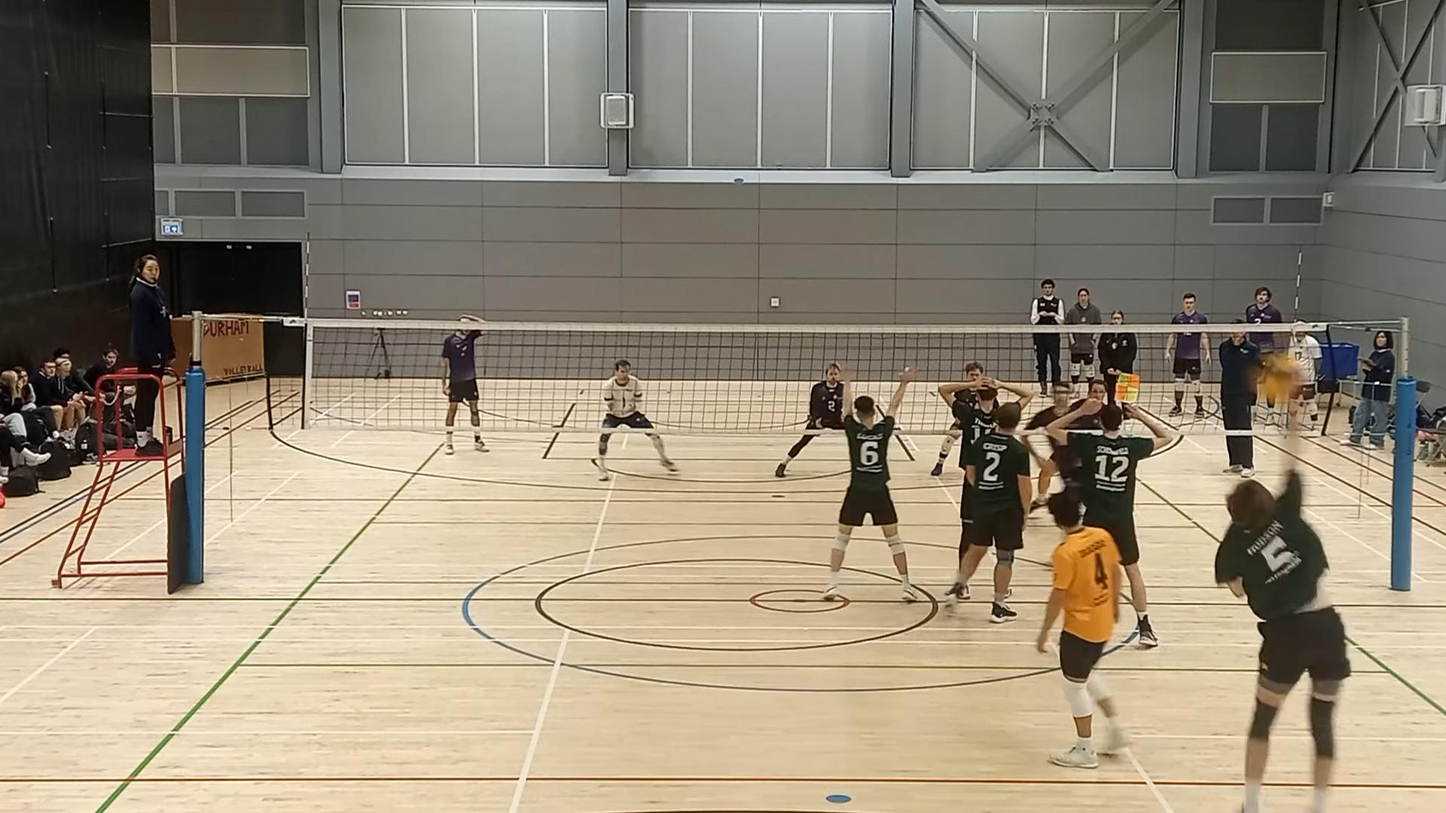Player: (1047, 399, 1173, 647), (1036, 491, 1128, 768), (822, 368, 918, 601), (947, 403, 1031, 623), (938, 375, 1032, 468), (441, 328, 488, 455), (602, 360, 653, 430), (1026, 433, 1066, 509), (806, 364, 843, 429), (931, 418, 962, 476)
Serve: (1208, 397, 1354, 790)
